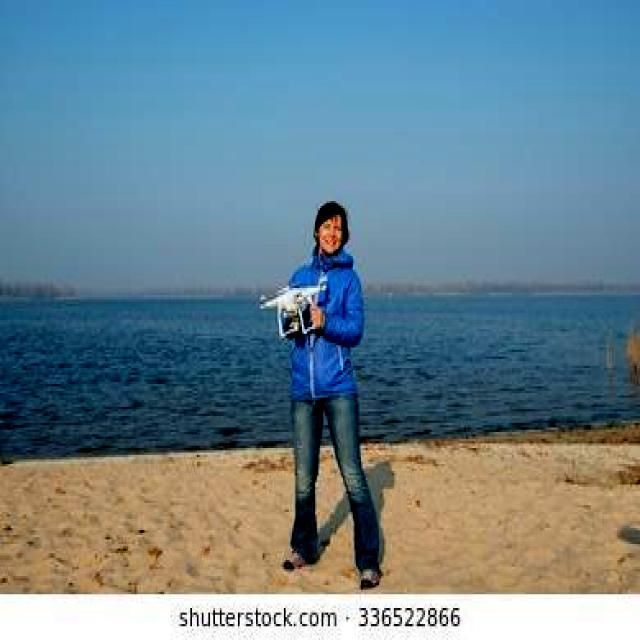drone: (262, 278, 324, 332)
